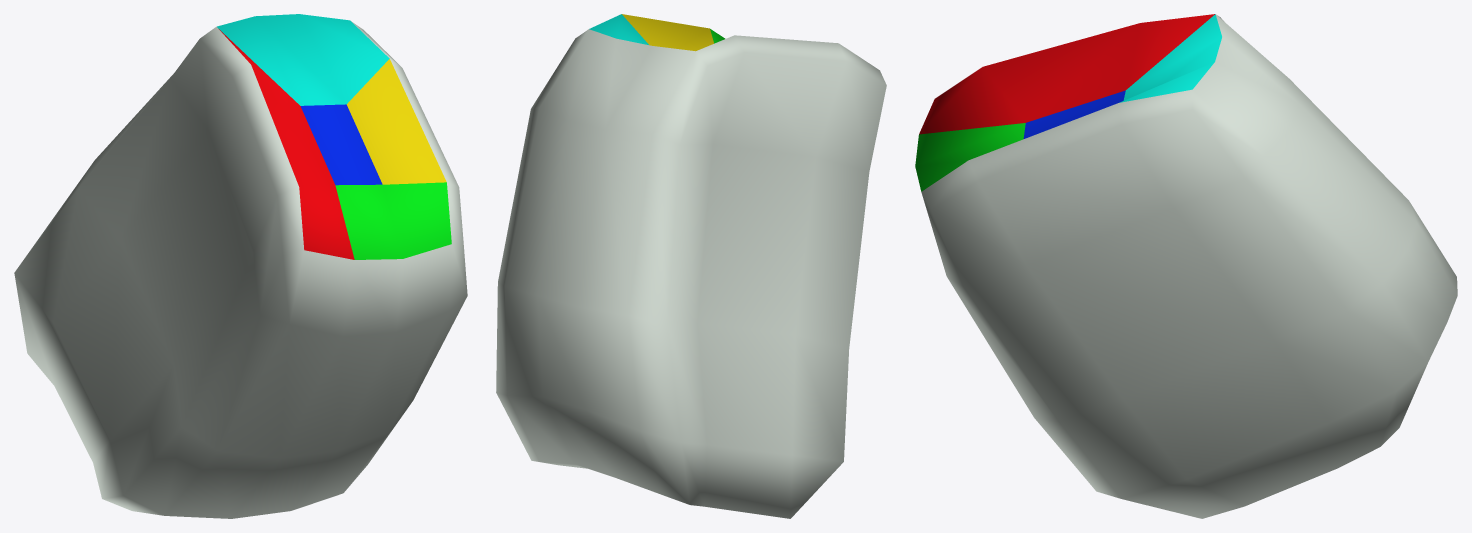
3 views of the same model, side by side, from view 1: azimuth 30°, elevation 25°; view 2: azimuth 150°, elevation 25°; view 3: azimuth 270°, elevation 25° (orthographic). The views are drawn at different scales.
Parts seen in each view (by area): view 1: Caine.Denture.005; view 2: Caine.Denture.005; view 3: Caine.Denture.005.
Boxes of the visible parts, x1,y1,x2,y2 form: Caine.Denture.005: (14,14,467,518); Caine.Denture.005: (496,14,886,518); Caine.Denture.005: (915,14,1457,518).
Size of the model in its own units: 0.054 by 0.0846 by 0.0885.
